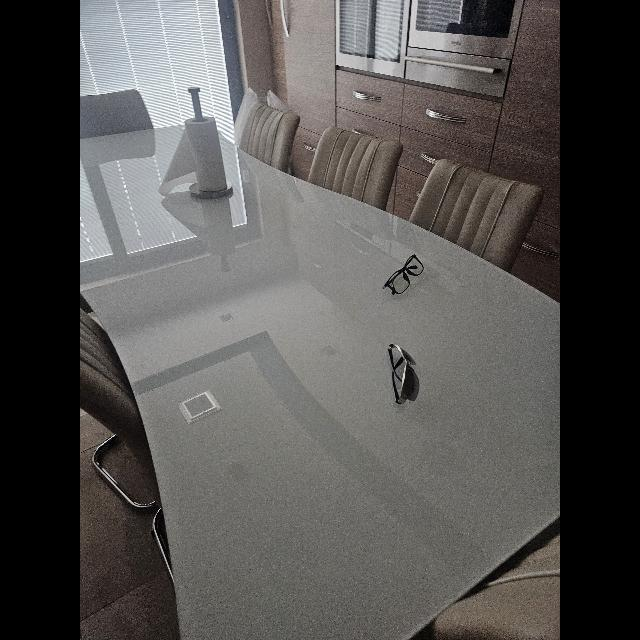Sunglasses: (388, 344, 419, 404)
glasses: (382, 255, 423, 295)
